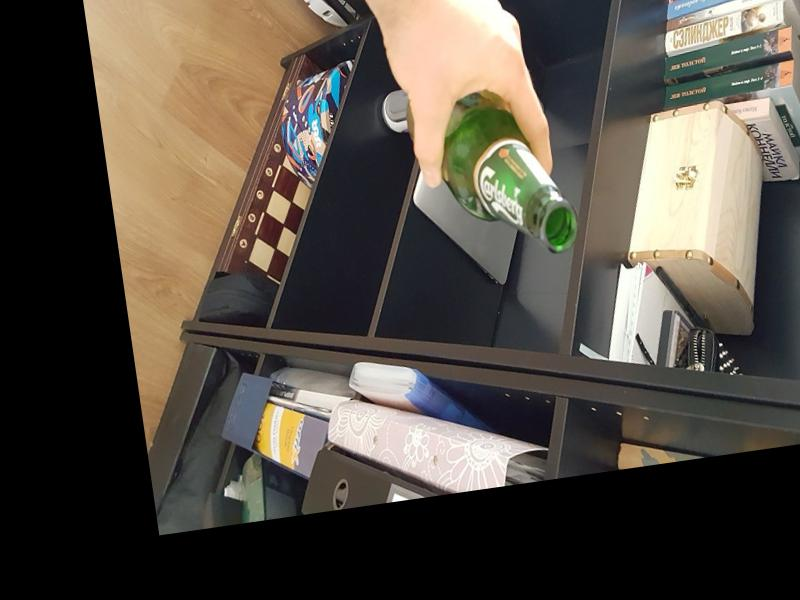Beer: (402, 69, 580, 272)
